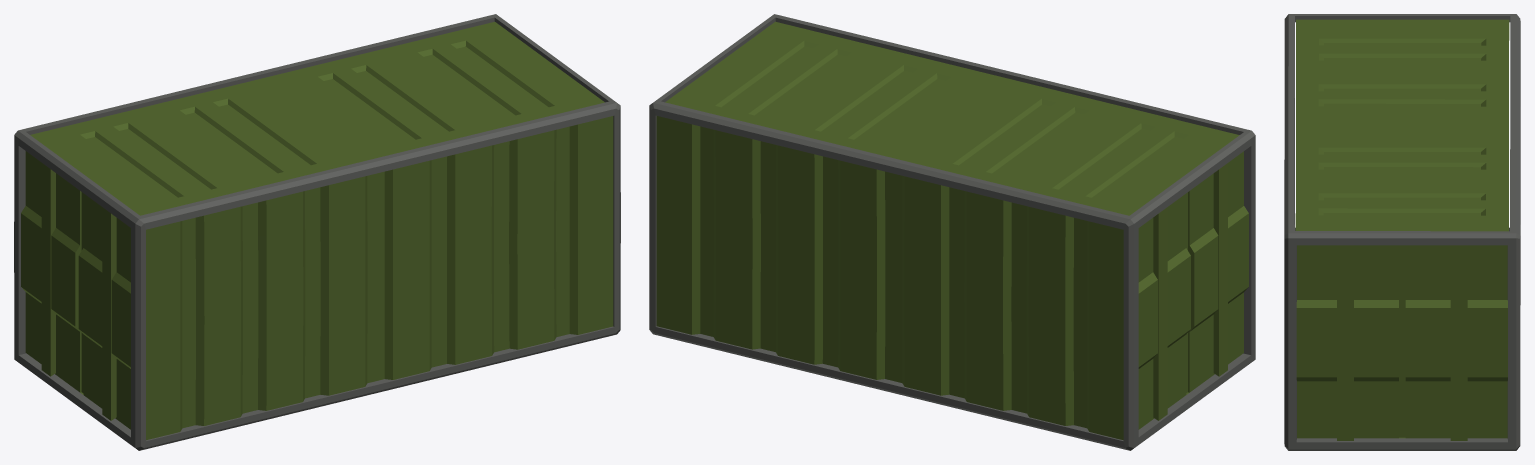
Rendered from container_green.glb.
3 views of the same model, side by side, from view 1: azimuth 30°, elevation 25°; view 2: azimuth 150°, elevation 25°; view 3: azimuth 270°, elevation 25° (orthographic). The views are drawn at different scales.
Parts seen in each view (by area): view 1: Container_Green; view 2: Container_Green; view 3: Container_Green.
Boxes of the visible parts, bbox=[...] form: Container_Green: bbox=[14, 14, 620, 450]; Container_Green: bbox=[649, 14, 1255, 450]; Container_Green: bbox=[1284, 14, 1520, 450].
Size of the model in its own units: 5.71 by 2.6 by 2.56.
1 material, 1 textured.
